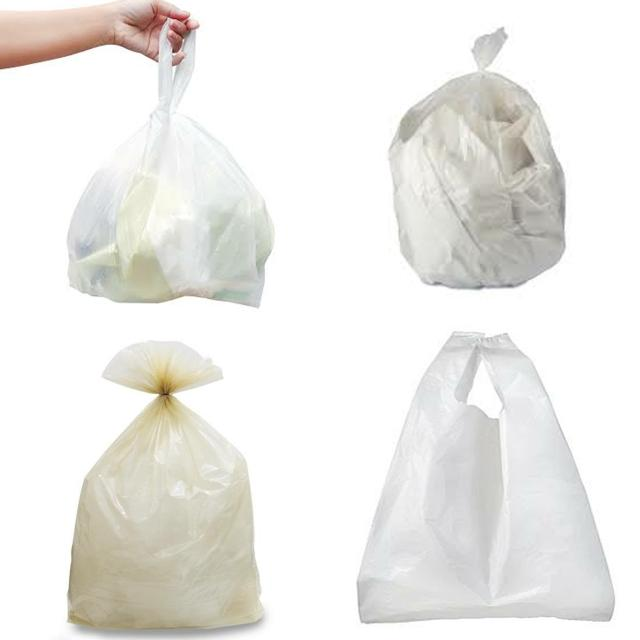Single-layer Plastic: (358, 332, 614, 622), (68, 26, 274, 306), (69, 341, 262, 629), (389, 28, 565, 289)
